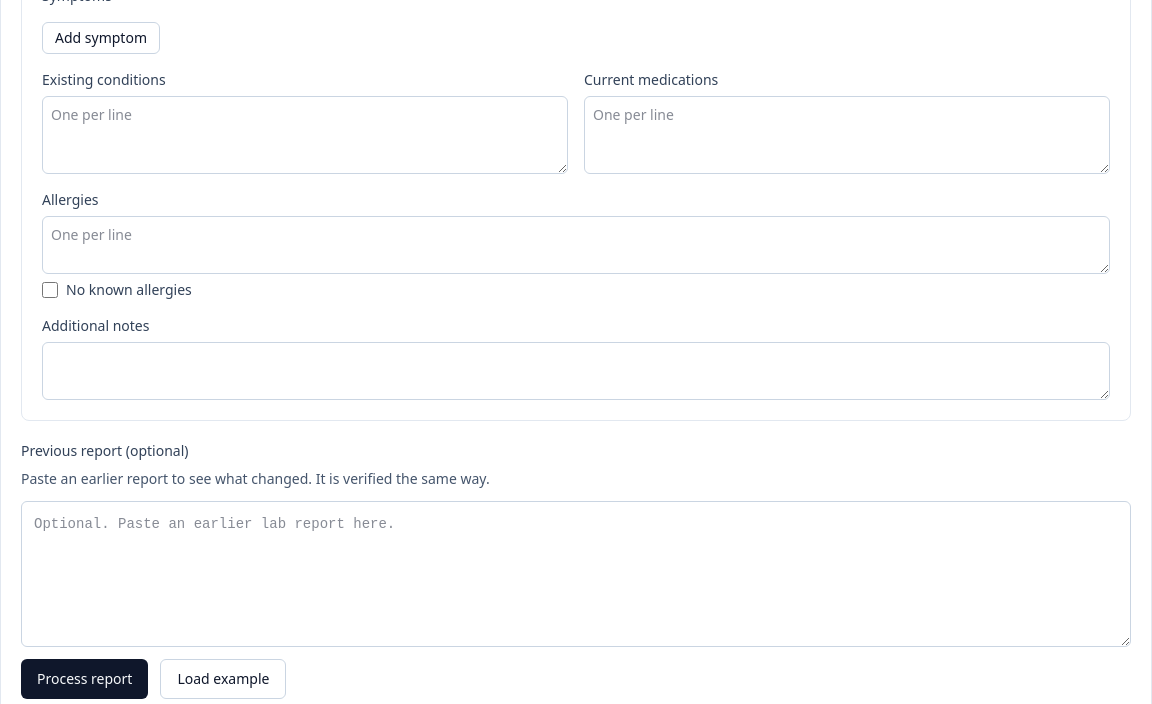
Test: ReportAnalyzer — never silently fakes a model call › does not show that notice when Gemini actually ran
(page scrolled)
Click the button "Load example": (223, 679) [160,659,286,699]
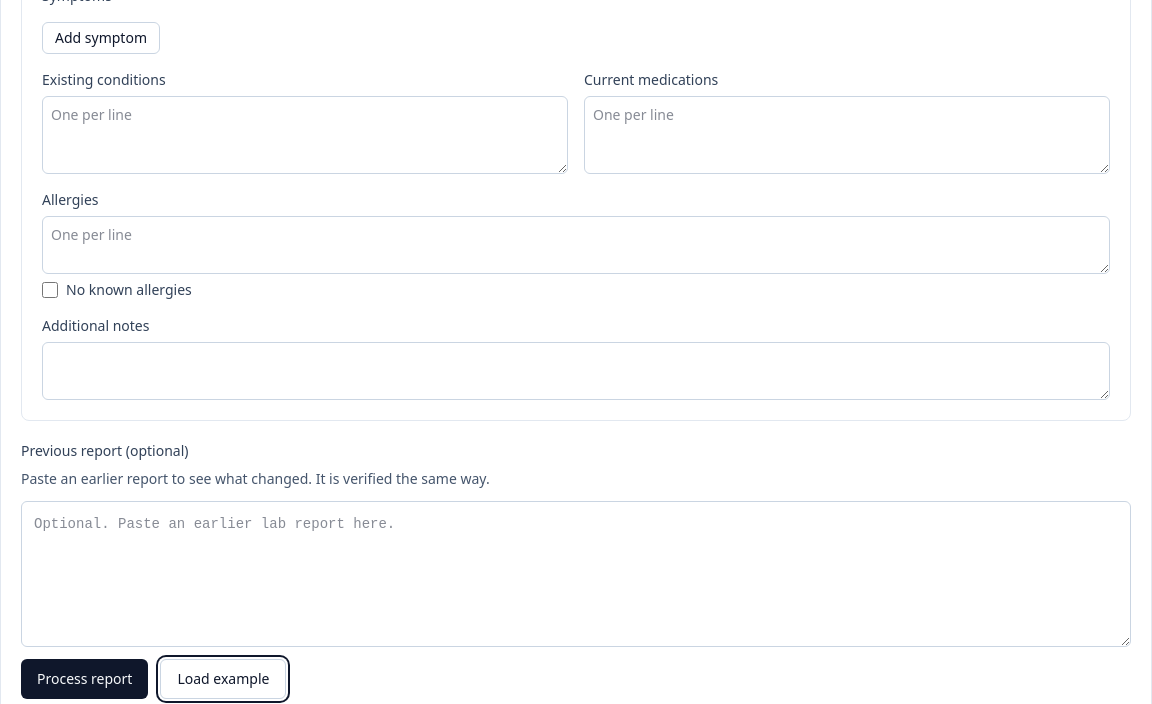
Click the button "Process report": (85, 679) [21,659,148,699]
(page scrolled)
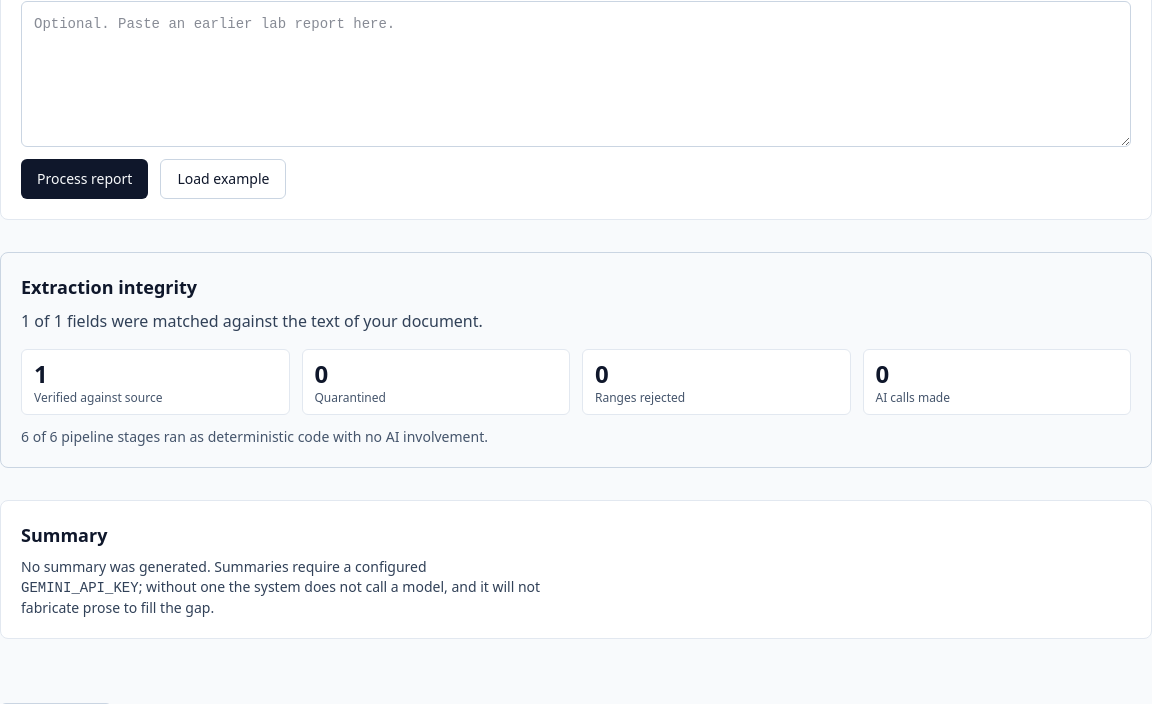
Expected: the element "Extraction integrity" is shown, [0,252,1151,468]
